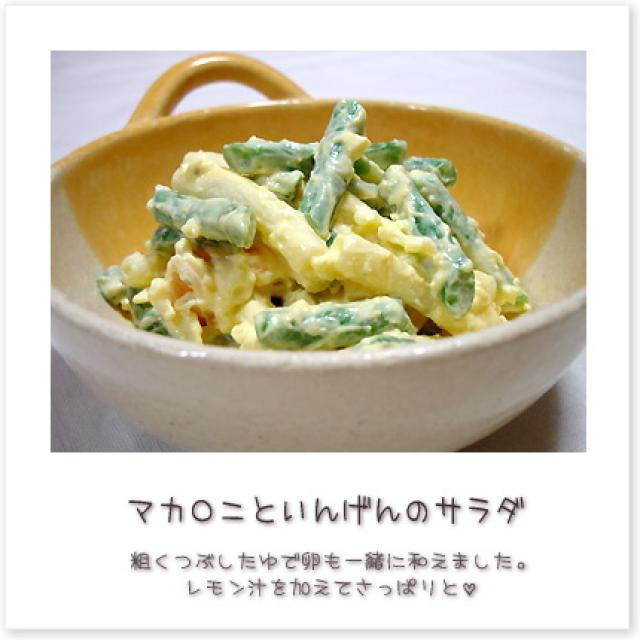蔬菜料理: (48, 92, 588, 378)
